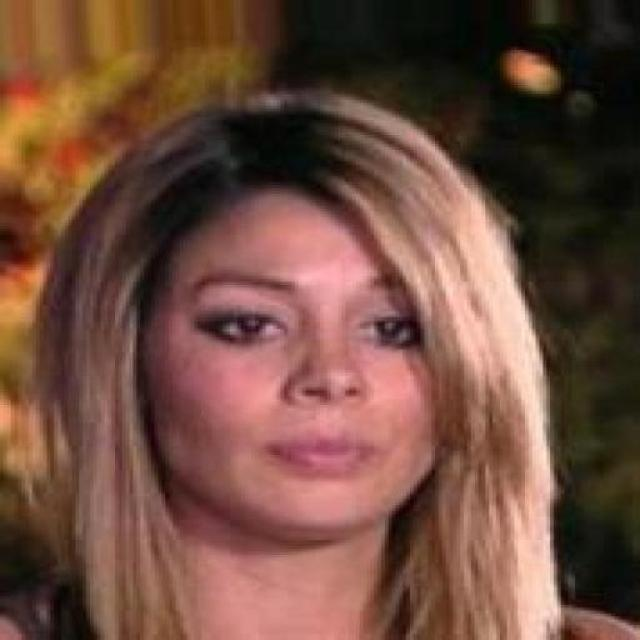bareface: (87, 124, 442, 536)
